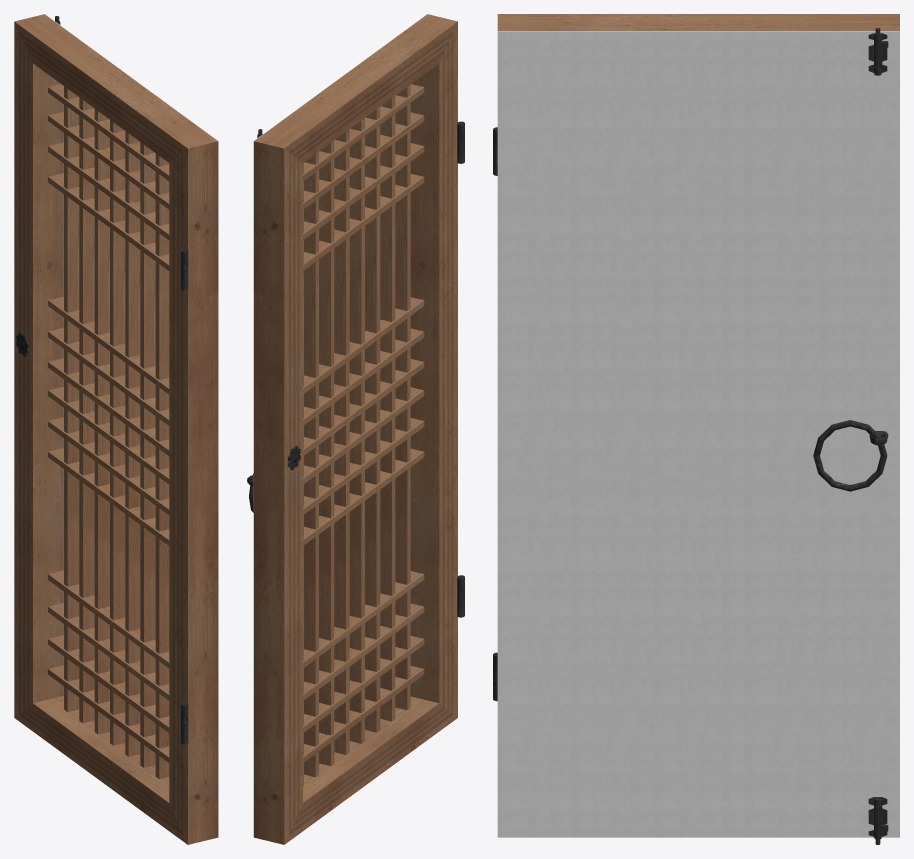
File: SM_JSH_WindowF.fbx
3 renders of one model, left to right at view 1: azimuth 30°, elevation 25°; view 2: azimuth 150°, elevation 25°; view 3: azimuth 270°, elevation 25°, orthographic. The views are drawn at different scales.
Visible parts, largest first — view 1: SM_JSH_WindowF; view 2: SM_JSH_WindowF; view 3: SM_JSH_WindowF.
Boxes of the visible parts, x1=… form: SM_JSH_WindowF: x1=14, y1=14, x2=218, y2=844; SM_JSH_WindowF: x1=247, y1=14, x2=464, y2=844; SM_JSH_WindowF: x1=493, y1=14, x2=899, y2=844.
Bounding box in the file's own units: 9.65 × 57.49 × 127.
1 material, 1 textured.
